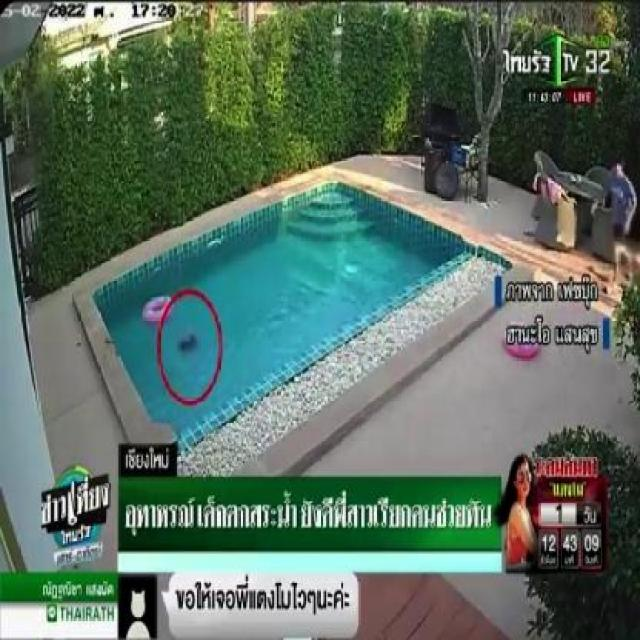drowning: (169, 318, 209, 374)
